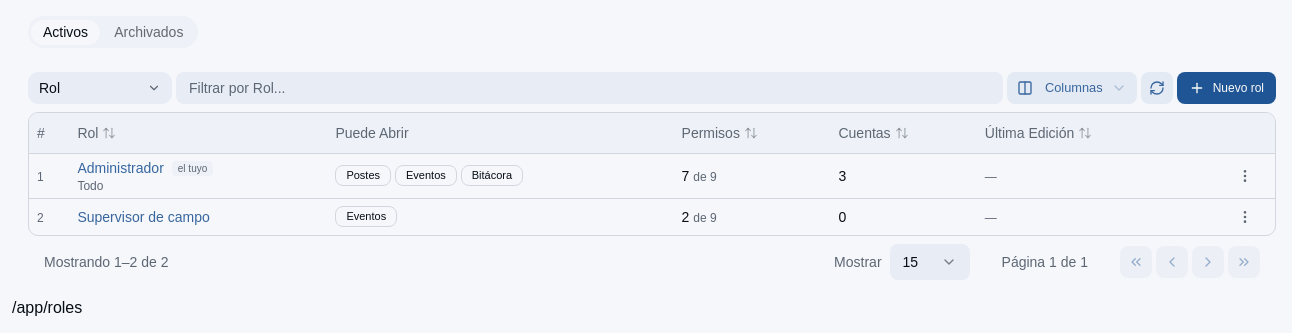
it: the archived roles › are asked for when their tab is chosen, and not before
Check: the button "Supervisor de campo" is shown, box x1=77 y1=206 x2=210 y2=226
Click the tab "Archivados": point(149, 32) x1=101 y1=18 x2=196 y2=46
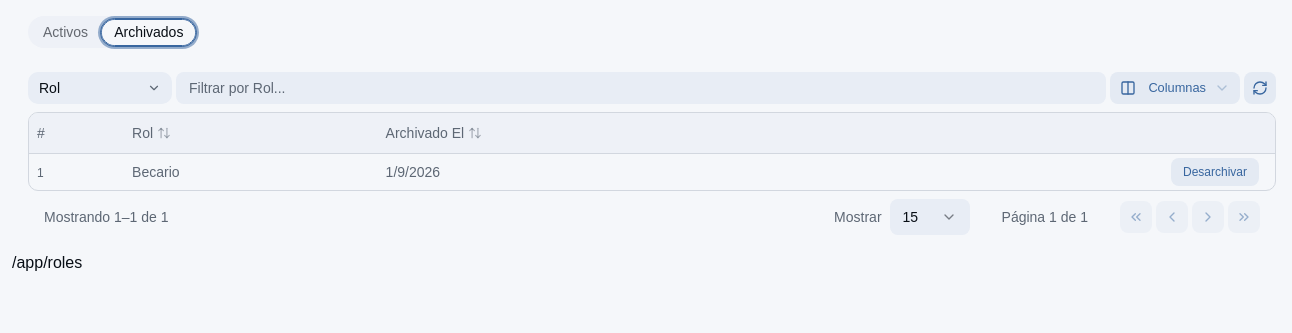
Check: the text "Becario" is shown, box x1=132 y1=164 x2=180 y2=180
